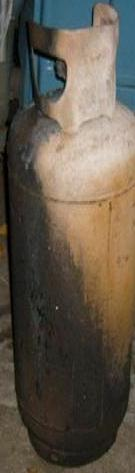cylinder: (1, 1, 135, 473)
